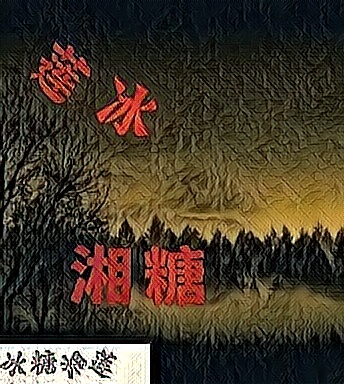B1F9: (96, 75, 158, 139)
C1AB: (29, 41, 91, 105)
CCC7: (143, 242, 205, 306)
CFE6: (71, 241, 133, 305)
